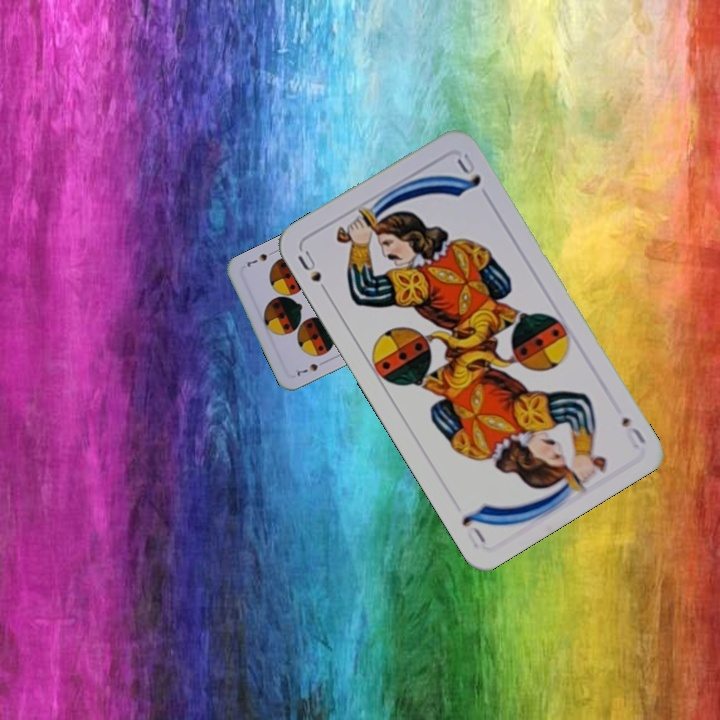S7: (293, 356, 329, 378)
SU: (293, 246, 333, 299), (617, 412, 648, 451)
